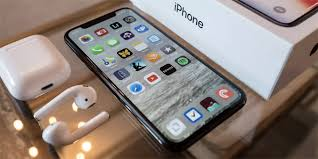iphone: (63, 4, 252, 153)
iphone10: (62, 3, 251, 152)
